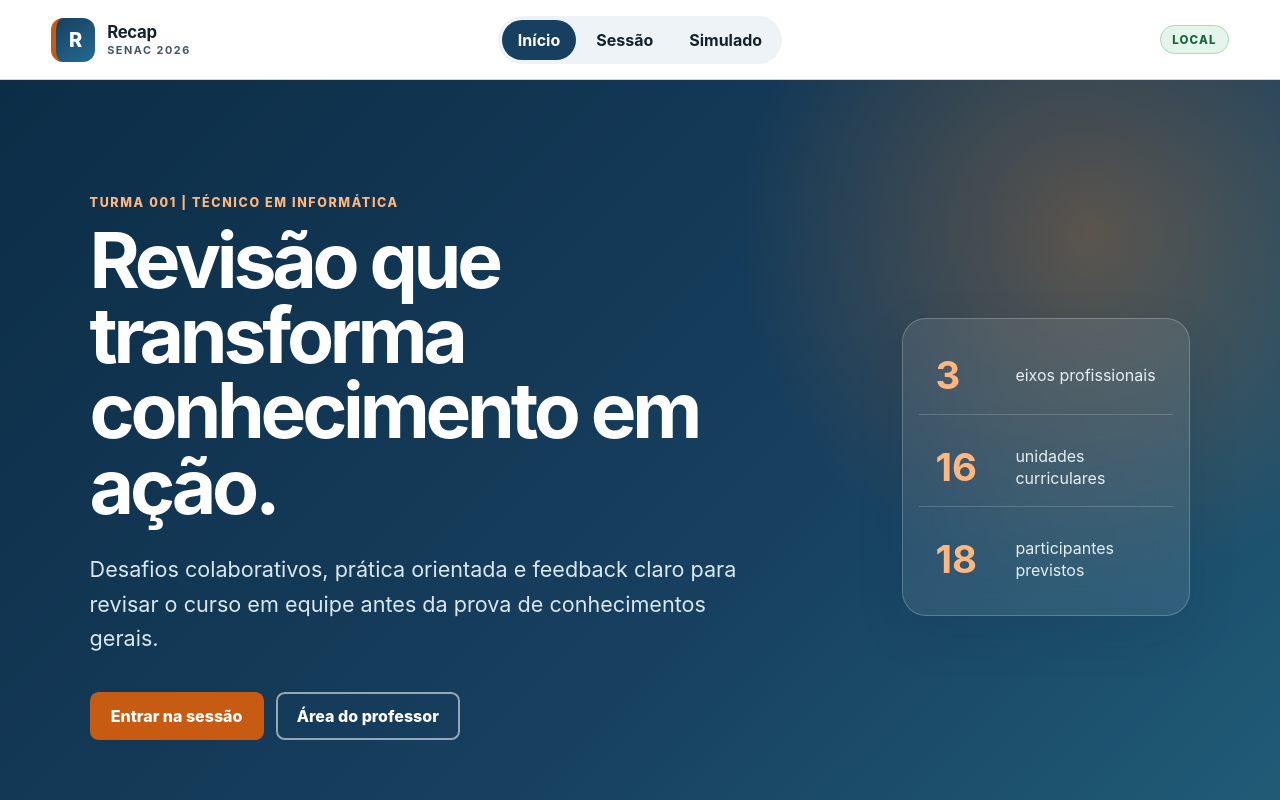
Test: App › keeps unresolved production controls explicit
Click the button "Área do professor". click: click(368, 716)
box: [276, 692, 460, 740]
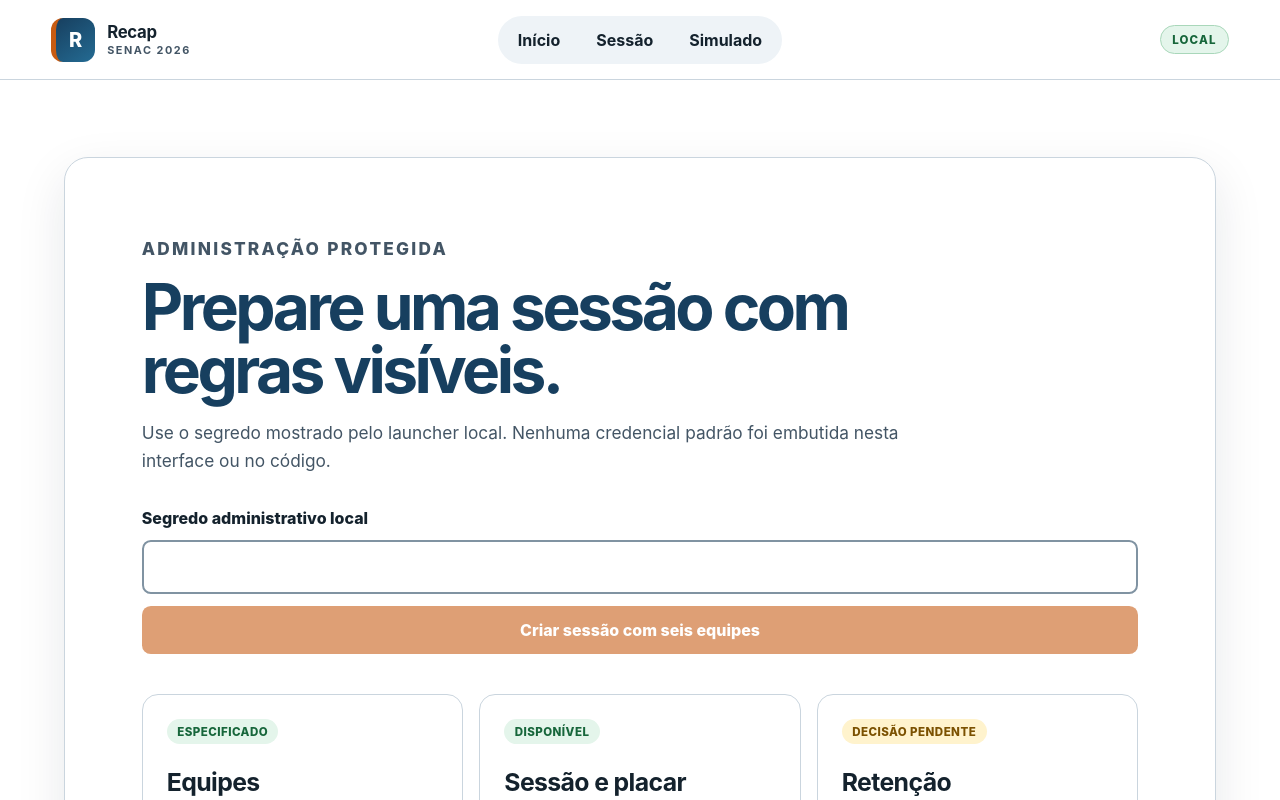
Result: the text "nenhuma credencial padrão foi embutida" is shown at [142, 422, 899, 471]
Result: the text "Decisão pendente" is shown at [842, 719, 986, 744]
